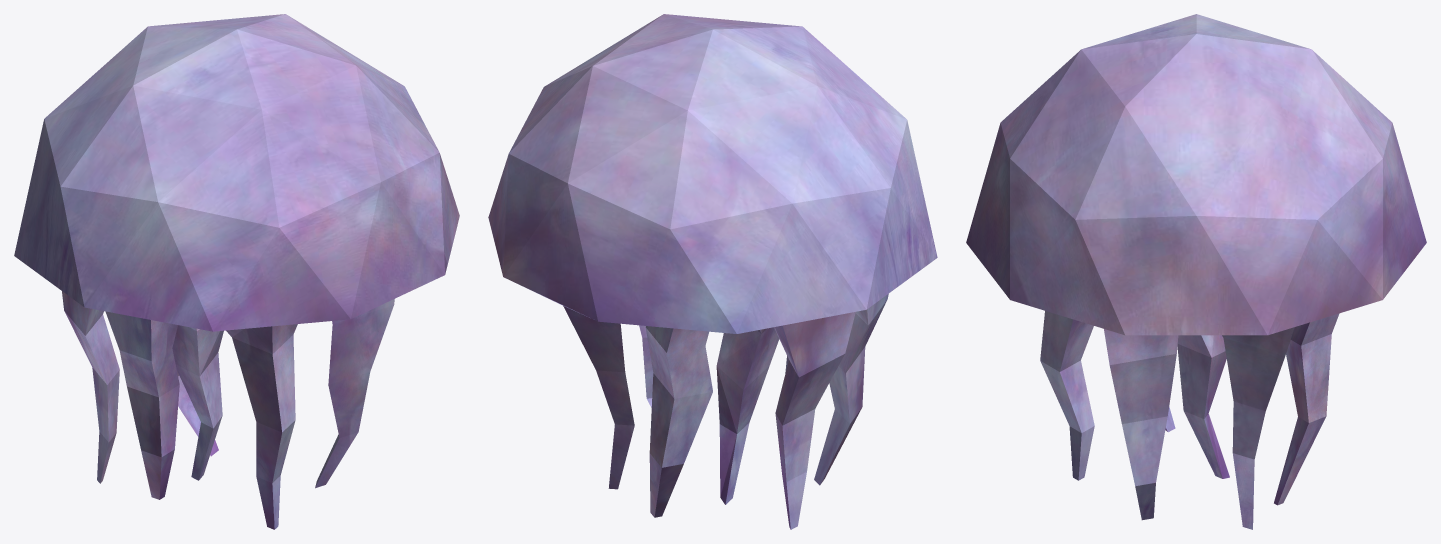
Rendered from manet.obj.
3 renders of one model, left to right at view 1: azimuth 30°, elevation 25°; view 2: azimuth 150°, elevation 25°; view 3: azimuth 270°, elevation 25°, orthographic.
Size of the model in its own units: 2.03 by 2.37 by 2.13.
1 material, 1 textured.
